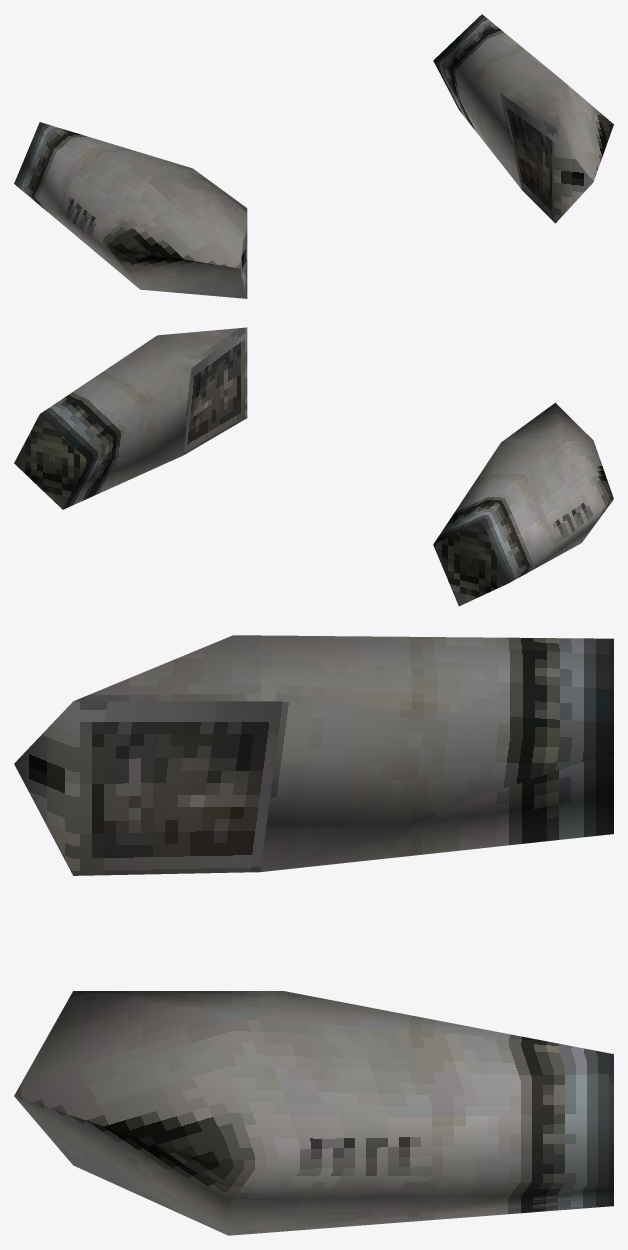
Rendered from hutt_fighter_heavy_booster_s02_l3.fbx.
3 views of the same model, one above another, from view 1: azimuth 30°, elevation 25°; view 2: azimuth 150°, elevation 25°; view 3: azimuth 270°, elevation 25° (orthographic). The views are drawn at different scales.
Parts seen in each view (by area): view 1: mesh_node; view 2: mesh_node; view 3: mesh_node.
Part boxes in pixels (x1=…): mesh_node: x1=14, y1=14, x2=613, y2=298; mesh_node: x1=14, y1=327, x2=613, y2=606; mesh_node: x1=14, y1=635, x2=613, y2=1235.
Bounding box in the file's own units: 8.85 × 1.79 × 4.75.
